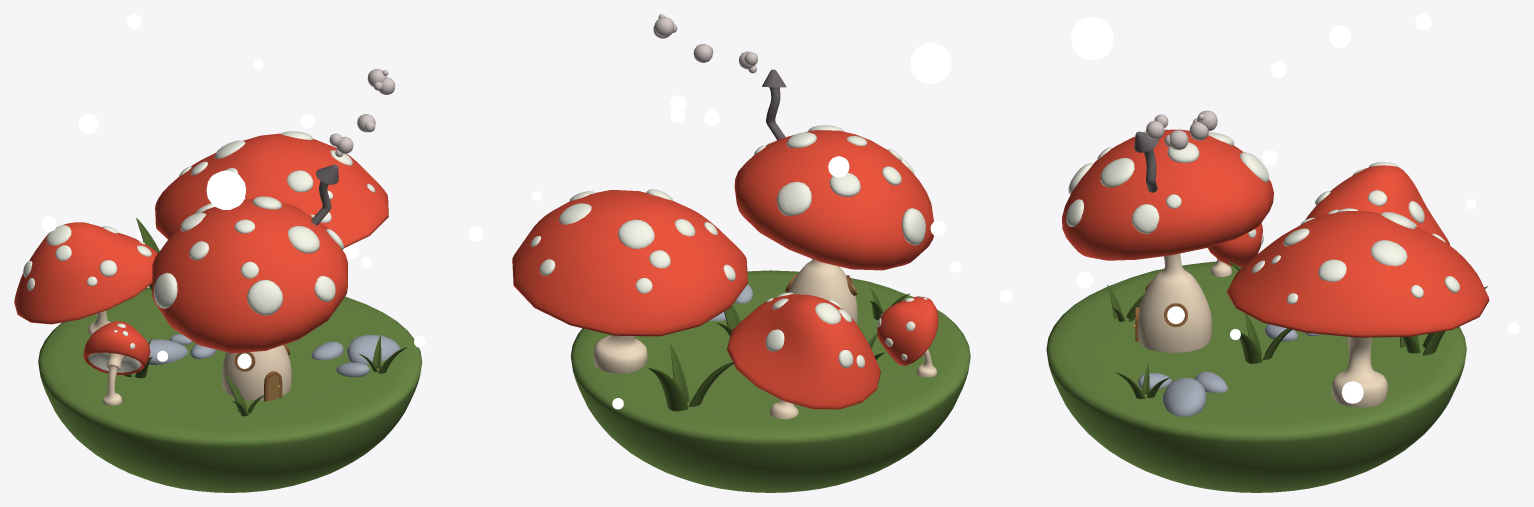
File: house4.glb
The picture shows the model from 3 angles, left to right: view 1: azimuth 30°, elevation 25°; view 2: azimuth 150°, elevation 25°; view 3: azimuth 270°, elevation 25°; orthographic projection. The views are drawn at different scales.
Parts seen in each view (by area): view 1: Circle, chapeau.001, chapeau, chapeau.005, chapeau.004, pied.001, Cube.076, Cube.054, Cube.011, chemine, Cube.057, Cube.015 (+2 smaller); view 2: Circle, chapeau, chapeau.001, chapeau.005, chapeau.004, pied.001, pied, Cube.076, Cube.012, Cube.022, chemine, Cube.015 (+2 smaller); view 3: Circle, chapeau, chapeau.001, pied.001, chapeau.005, pied, Cube.076, Cube.054, chapeau.004, chemine, Cube.009, Cube.023 (+1 smaller).
Part boxes in pixels (x1=…): Circle: x1=38, y1=287, x2=422, y2=492; chapeau.001: x1=152, y1=198, x2=347, y2=353; chapeau: x1=155, y1=133, x2=388, y2=247; chapeau.005: x1=14, y1=222, x2=157, y2=324; chapeau.004: x1=83, y1=321, x2=150, y2=374; pied.001: x1=222, y1=345, x2=291, y2=400; Cube.076: x1=206, y1=170, x2=245, y2=209; Cube.054: x1=347, y1=334, x2=400, y2=364; Cube.011: x1=247, y1=279, x2=283, y2=315; chemine: x1=311, y1=164, x2=338, y2=225; Cube.057: x1=146, y1=339, x2=187, y2=364; Cube.015: x1=153, y1=272, x2=177, y2=308; Circle: x1=571, y1=270, x2=970, y2=492; chapeau: x1=512, y1=190, x2=747, y2=336; chapeau.001: x1=734, y1=130, x2=933, y2=270; chapeau.005: x1=727, y1=294, x2=880, y2=409; chapeau.004: x1=877, y1=296, x2=938, y2=365; pied.001: x1=788, y1=259, x2=857, y2=323; pied: x1=593, y1=335, x2=647, y2=373; Cube.076: x1=910, y1=43, x2=951, y2=83; Cube.012: x1=777, y1=181, x2=811, y2=215; Cube.022: x1=618, y1=219, x2=654, y2=248; chemine: x1=762, y1=69, x2=786, y2=140; Cube.015: x1=901, y1=208, x2=925, y2=245; Circle: x1=1046, y1=261, x2=1466, y2=492; chapeau: x1=1226, y1=210, x2=1489, y2=337; chapeau.001: x1=1062, y1=129, x2=1273, y2=260; pied.001: x1=1138, y1=253, x2=1211, y2=352; chapeau.005: x1=1305, y1=165, x2=1449, y2=245; pied: x1=1331, y1=336, x2=1387, y2=407; Cube.076: x1=1071, y1=16, x2=1113, y2=60; Cube.054: x1=1163, y1=378, x2=1206, y2=416; chapeau.004: x1=1208, y1=223, x2=1262, y2=267; chemine: x1=1134, y1=131, x2=1158, y2=192; Cube.009: x1=1100, y1=158, x2=1134, y2=187; Cube.023: x1=1370, y1=240, x2=1407, y2=266.
Bounding box in the file's own units: 45.48 × 48.02 × 51.51.
